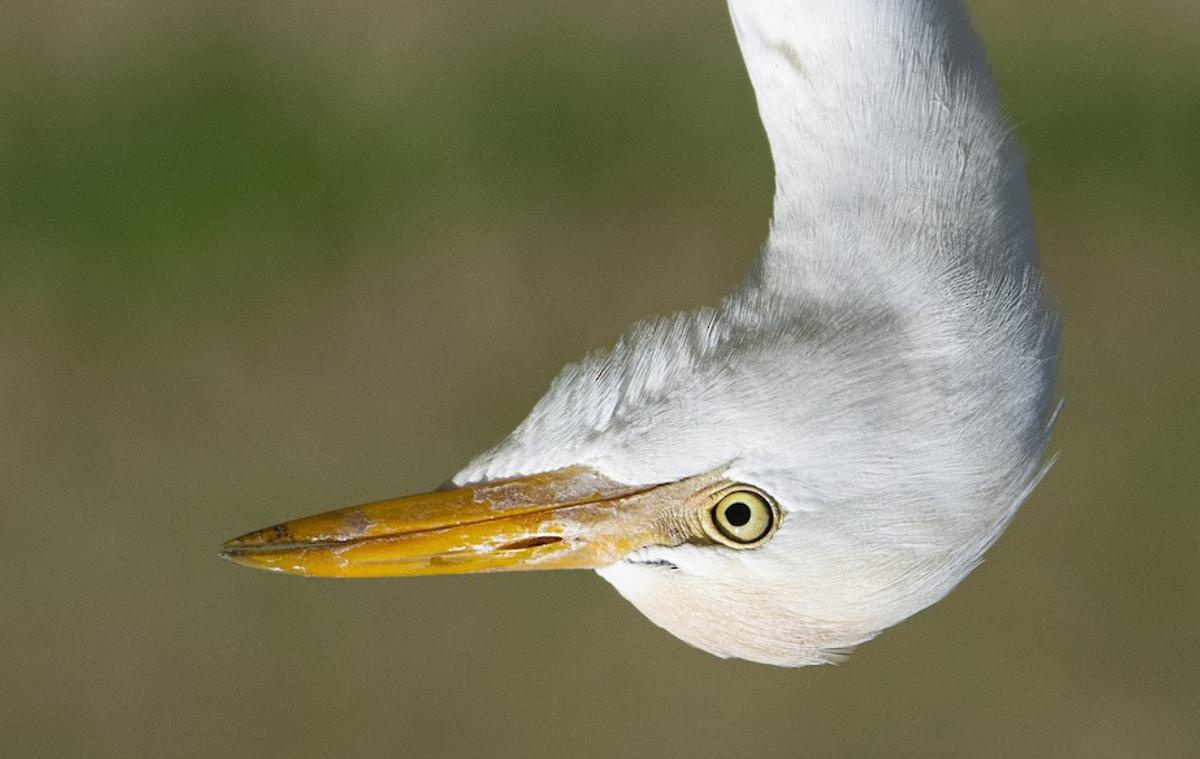egret: (198, 1, 1045, 669)
